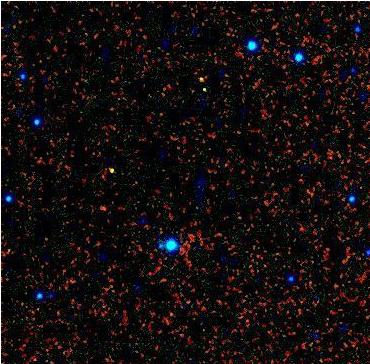star: (91, 195, 121, 225)
